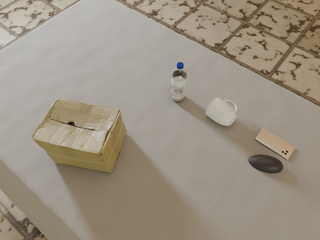bottle: (171, 62, 187, 101)
box: (32, 98, 127, 173)
cup: (206, 98, 237, 126)
mouse: (249, 155, 283, 173)
phone: (255, 128, 295, 160)
